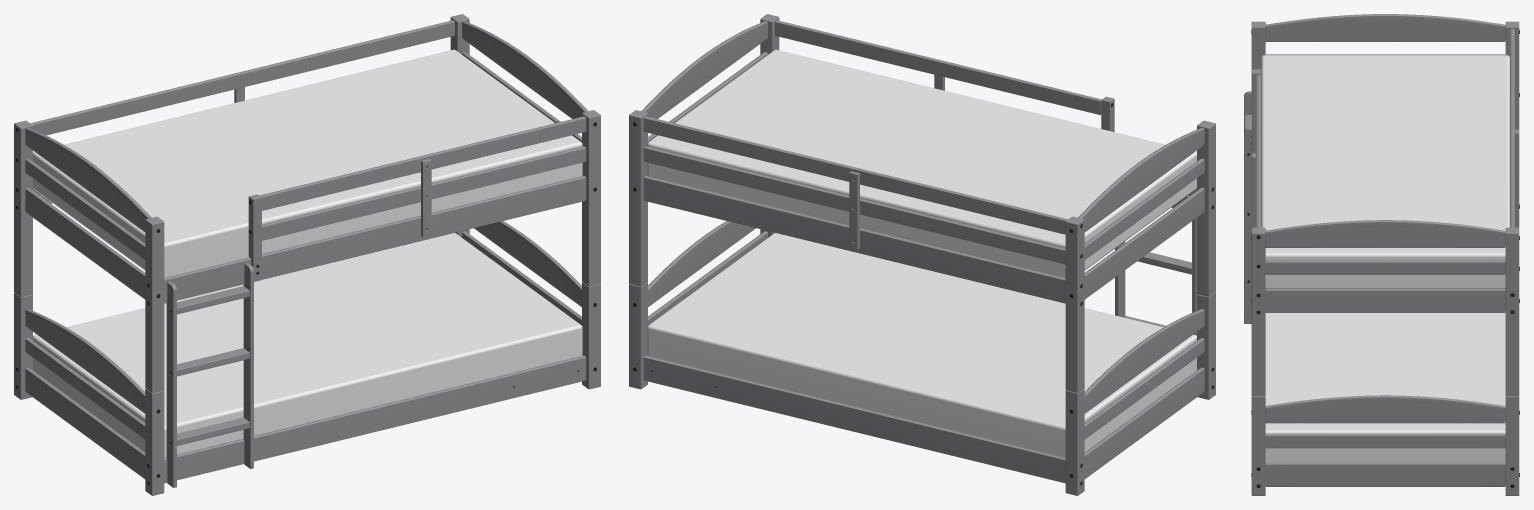
File: abo-B07RGR6XYT.glb
3 views of the same model, side by side, from view 1: azimuth 30°, elevation 25°; view 2: azimuth 150°, elevation 25°; view 3: azimuth 270°, elevation 25° (orthographic). The views are drawn at different scales.
Bounding box in the file's own units: 2.01 × 1.21 × 1.1.
Materials: 1 (1 with a texture image).
